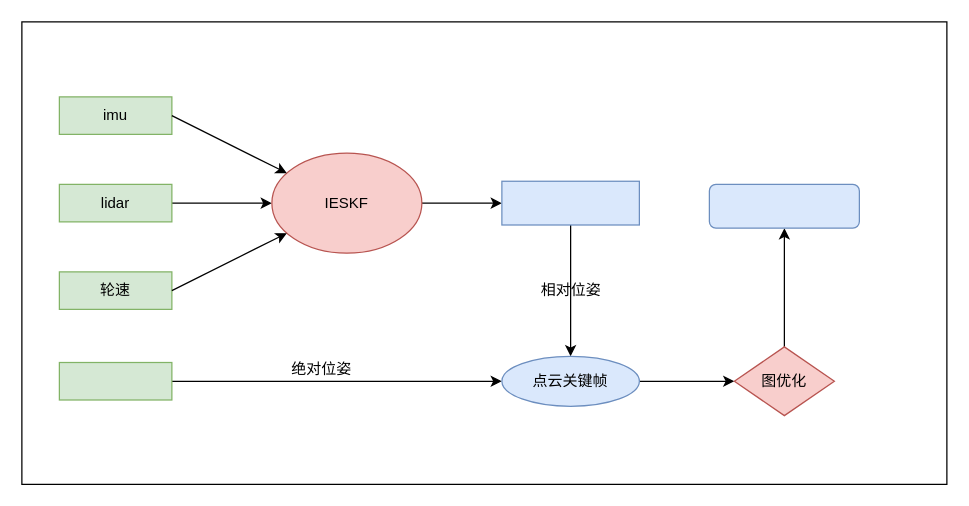
The diagram is 969 pixels wide and 506 high, and some of its shapes have lost their labels. Here are the shapes that lost their labels. From the top down, the centre of each, then its label:
At point (570, 202): "激光里程计".
At point (783, 205): "全局地图".
At point (115, 380): "惯导".
